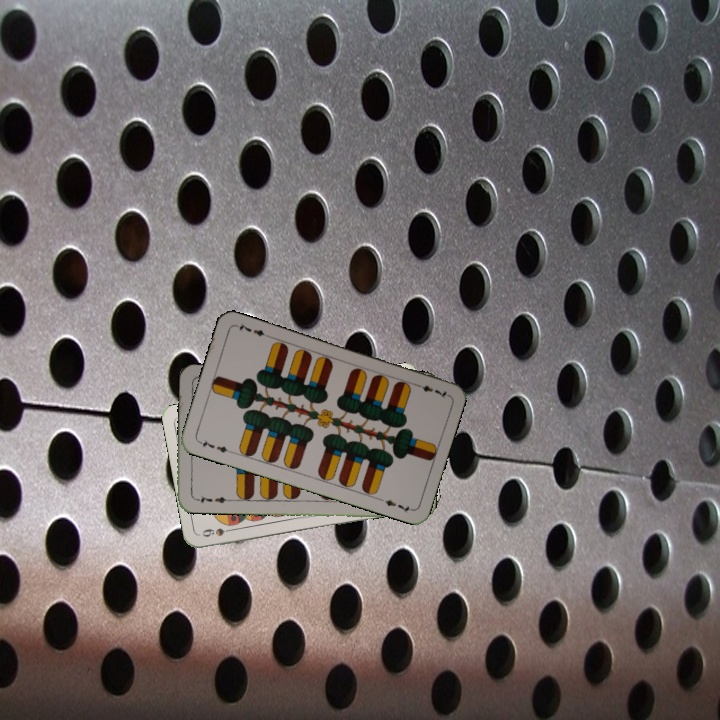E7: (195, 435, 234, 456), (411, 380, 450, 401), (190, 492, 231, 506)
S9: (198, 524, 238, 539)
